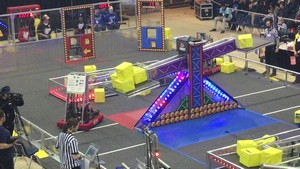cube: (237, 148, 261, 166), (113, 63, 136, 80), (116, 79, 135, 93), (236, 33, 254, 47), (93, 89, 107, 104), (222, 61, 234, 74), (84, 65, 97, 75)
